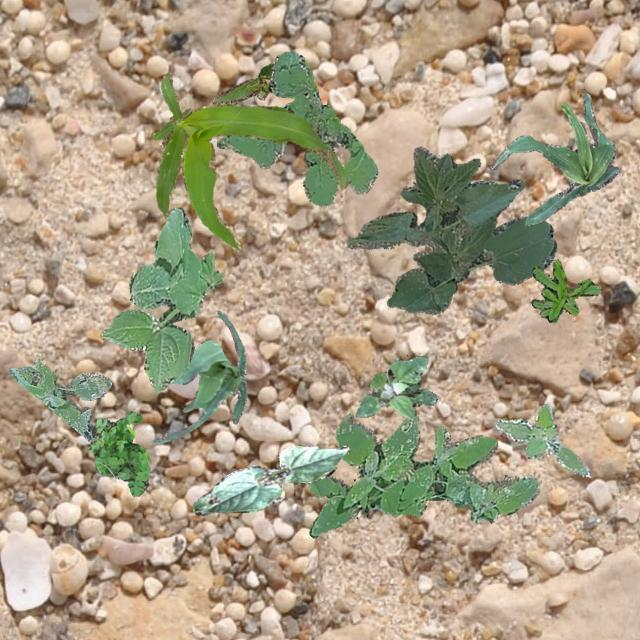crop: (346, 146, 556, 314), (152, 72, 346, 250), (490, 90, 620, 224), (152, 310, 246, 442), (192, 444, 348, 514), (212, 62, 272, 104)
weed: (307, 412, 538, 538), (215, 50, 378, 206), (100, 206, 222, 392), (8, 358, 110, 442), (494, 404, 588, 476), (354, 354, 436, 418), (86, 412, 148, 496), (530, 260, 600, 322)
